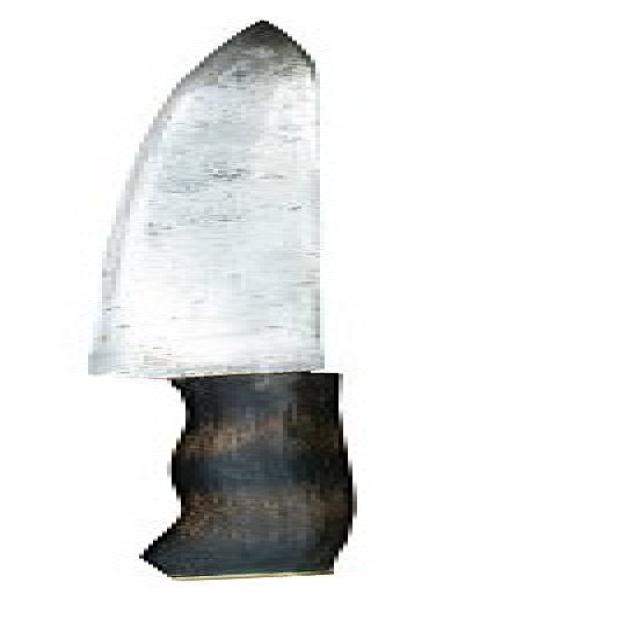knife: (87, 16, 392, 585)
